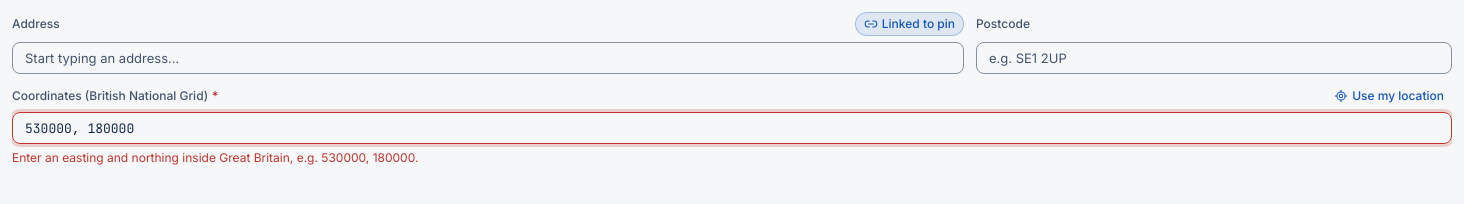
it: postcode field hints (-8) › clears the warning as soon as the postcode is edited
This screenshot has width=1464, height=204.
Type "SW1A 0ZZ" into the field labelled "Postcode" at x=1214, y=58, box [976, 42, 1452, 74]
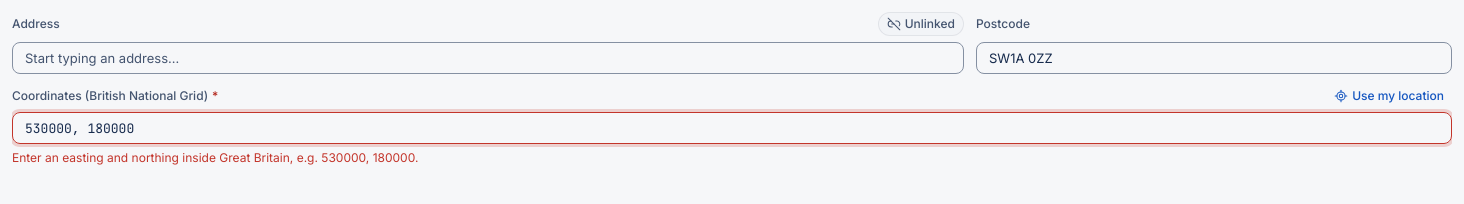
Leave the field labelled "Postcode", box [976, 42, 1452, 74]
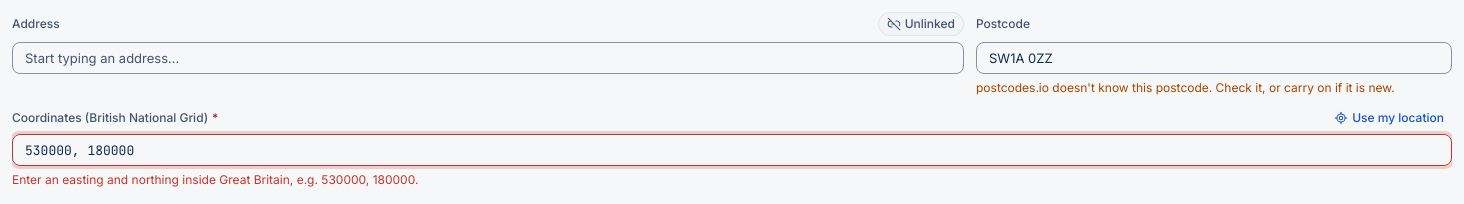
Expected: the text "doesn't know this postcode" is shown, [976, 80, 1395, 95]
Replace the text in the field labelled "Postcode" with "SW1A 0Z" at x=1214, y=58, box [976, 42, 1452, 74]
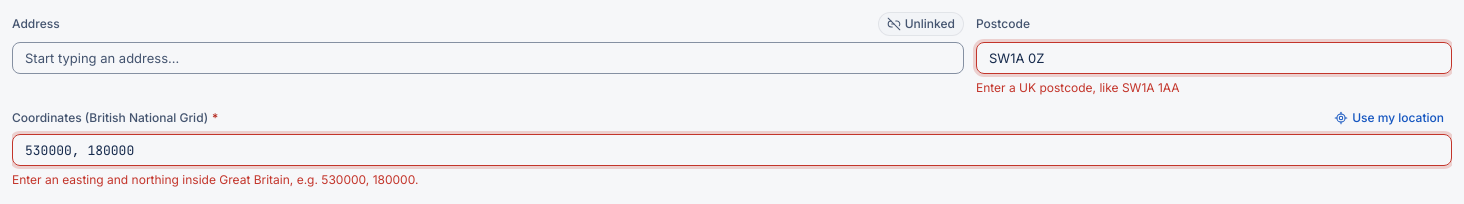
Expected: the text "doesn't know this postcode" is gone
